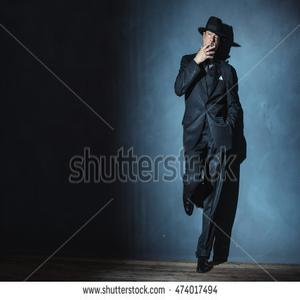cigarette: (206, 43, 216, 52)
